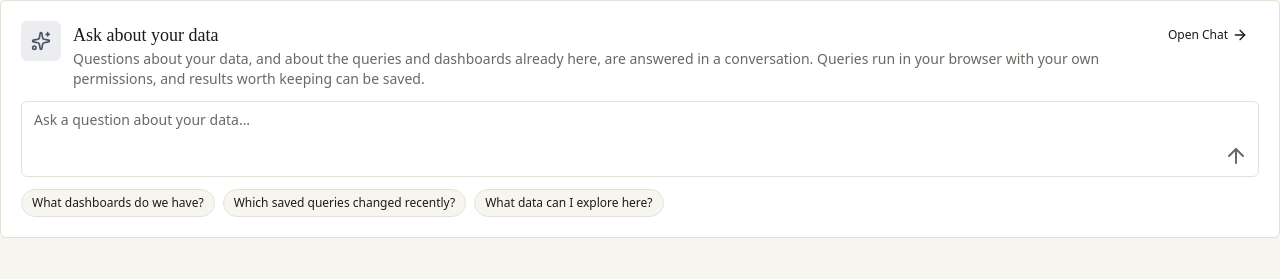
HomeChatCard › says so when a conversation cannot start
Click the button "Which saved queries changed recently?" at (344, 203), box [223,189,466,217]
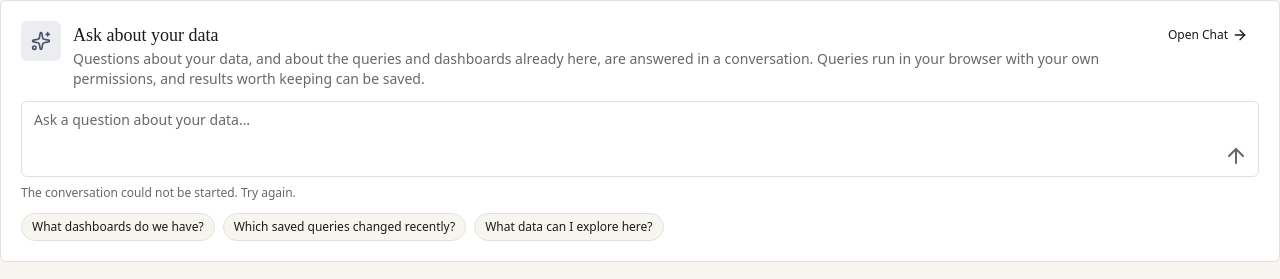
Now the text "The conversation could not be started. Try again." is shown, box [21,184,296,201]
